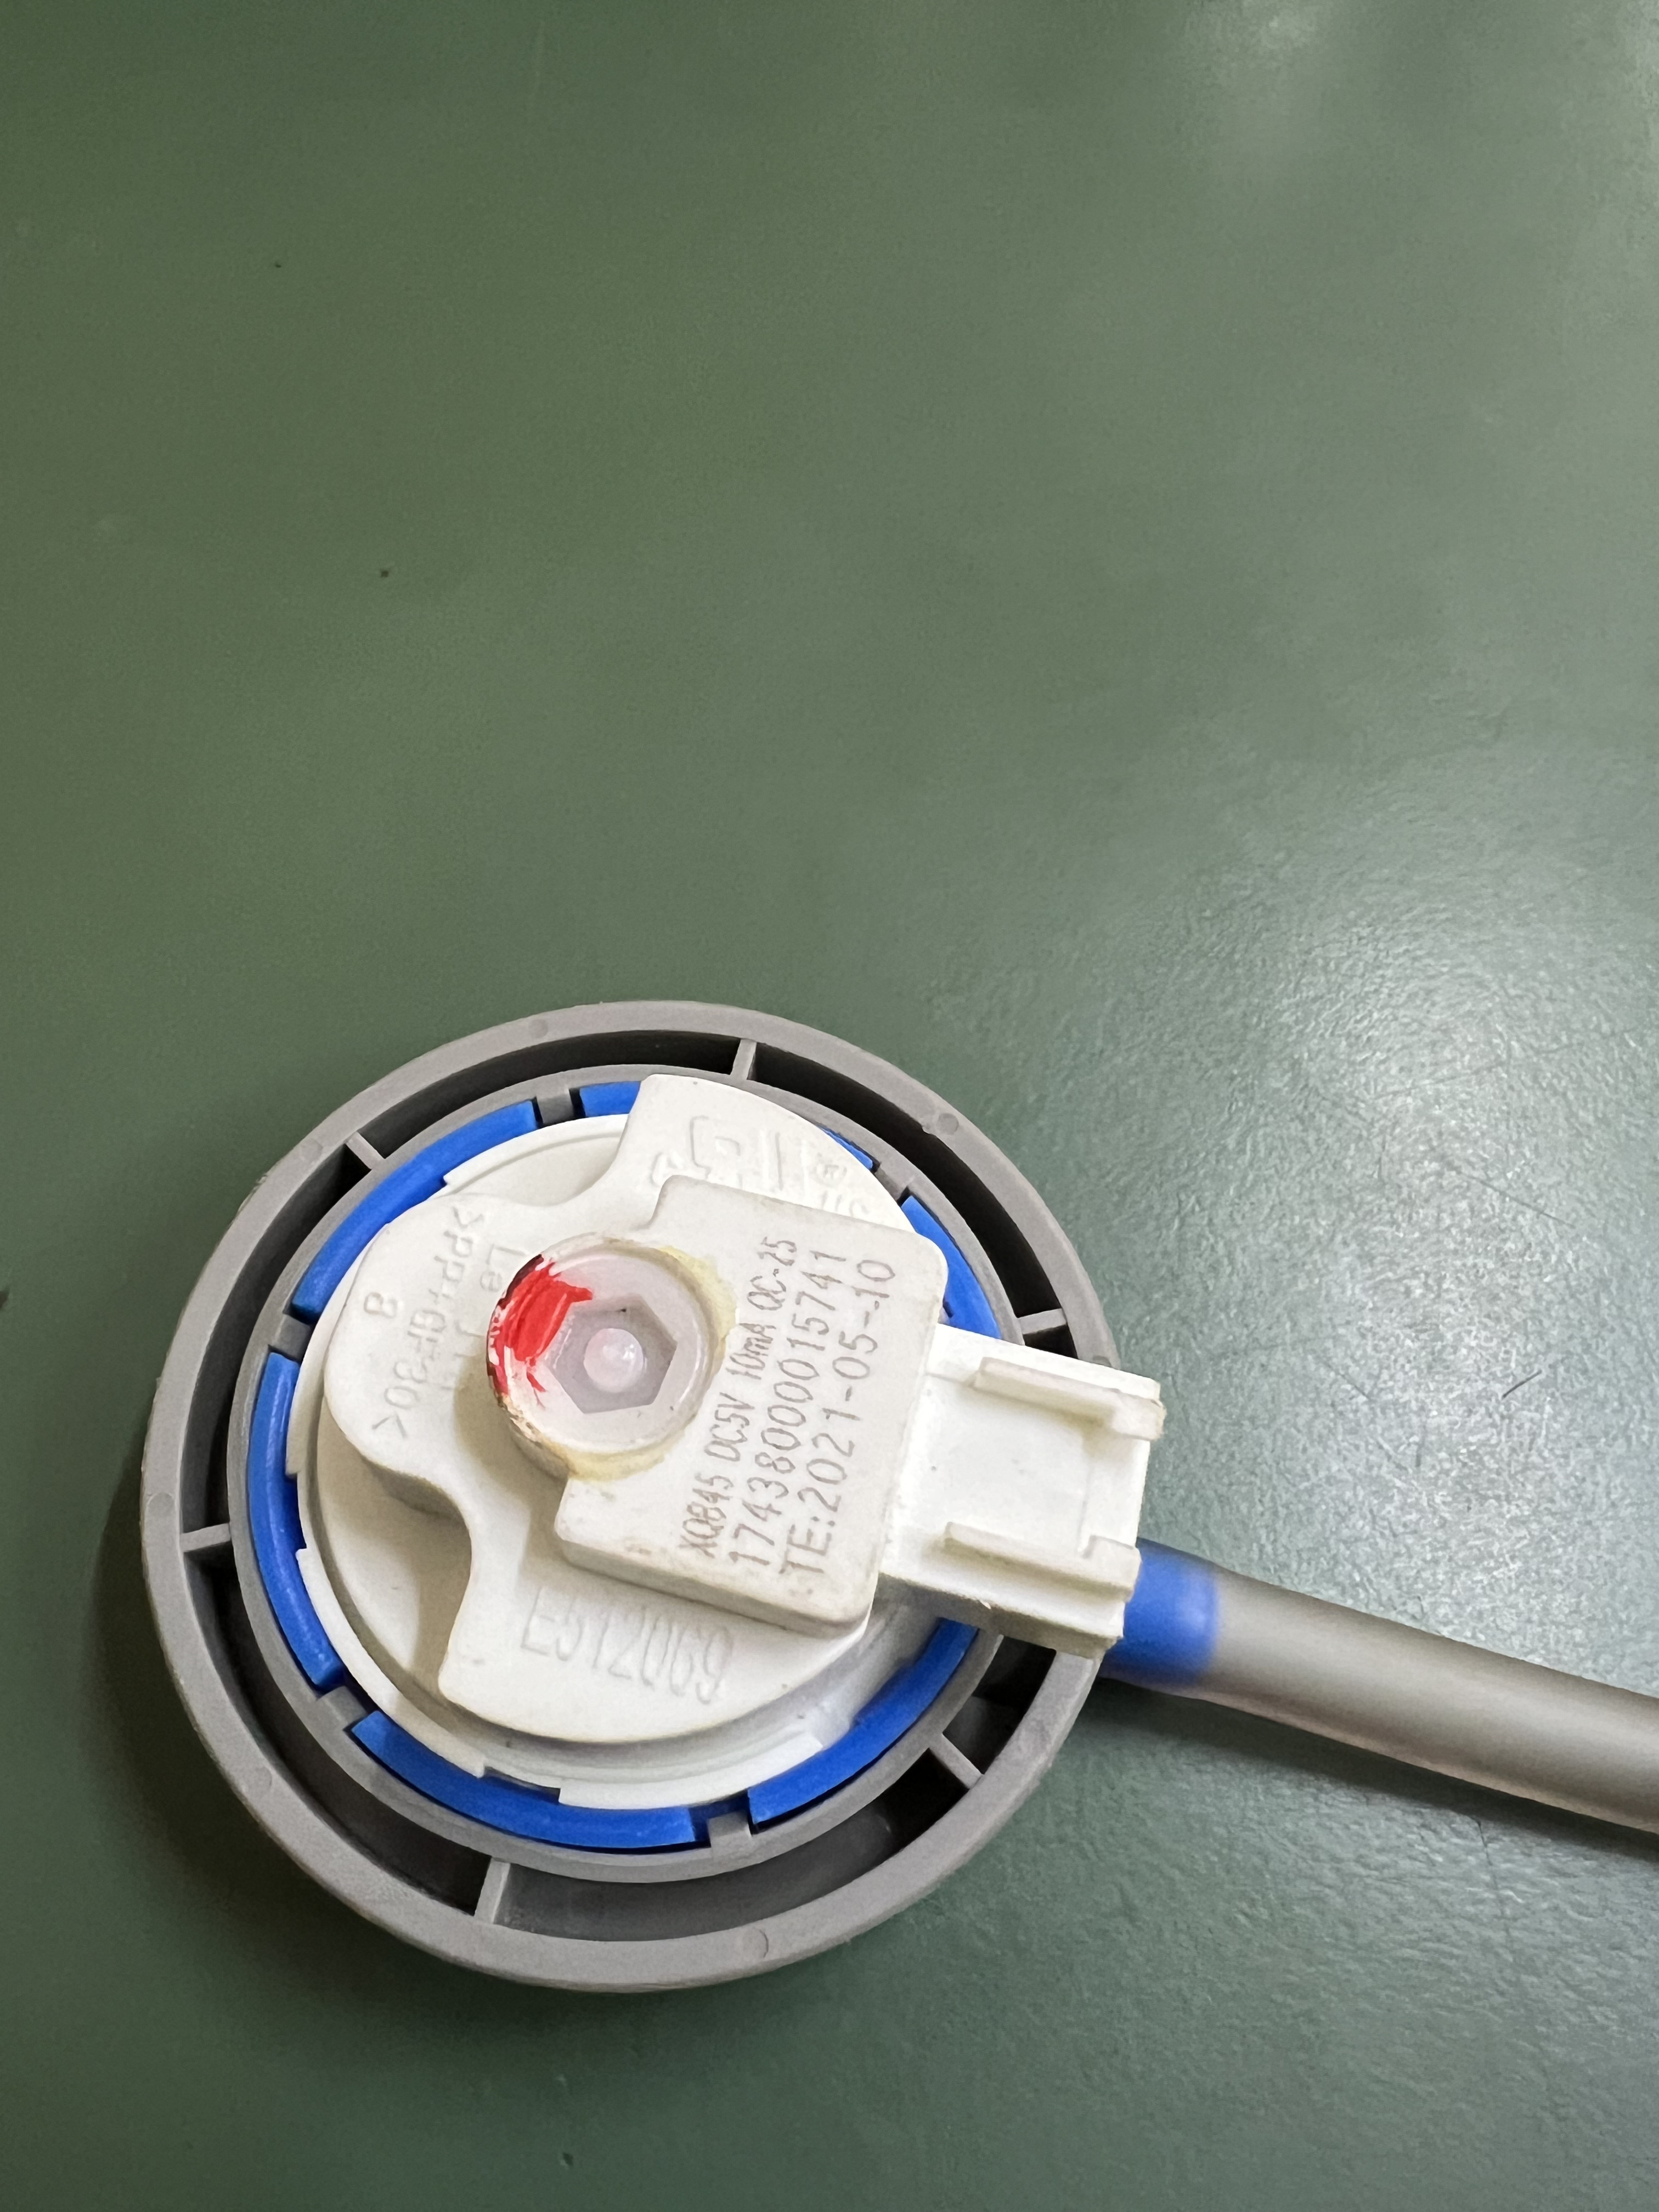pressure_sensor: (119, 1000, 1222, 2015)
